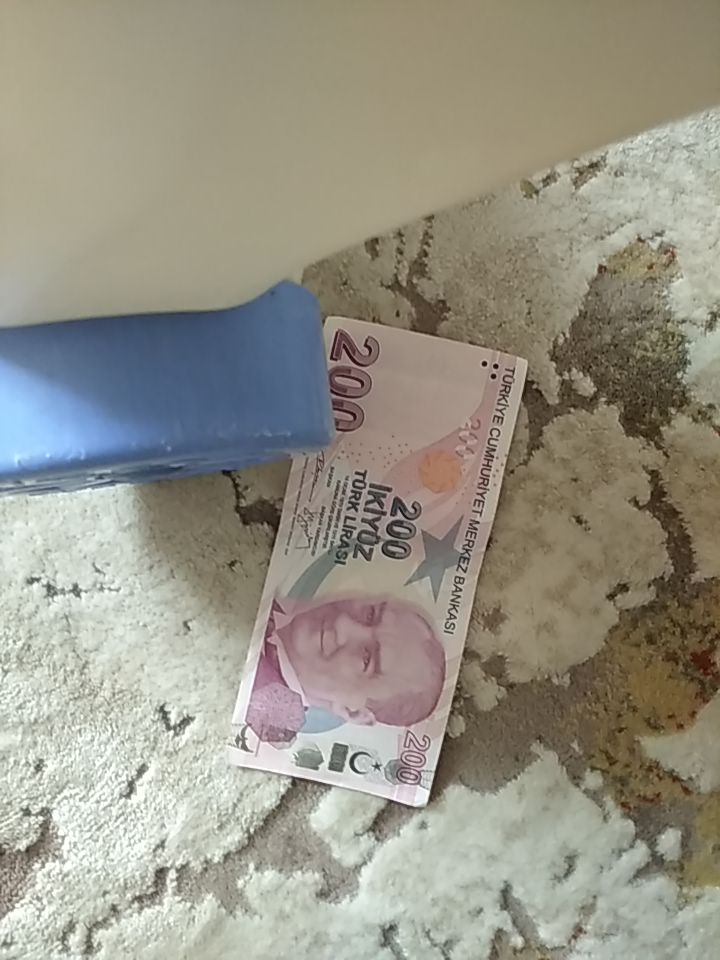200TL: (224, 313, 529, 811)
